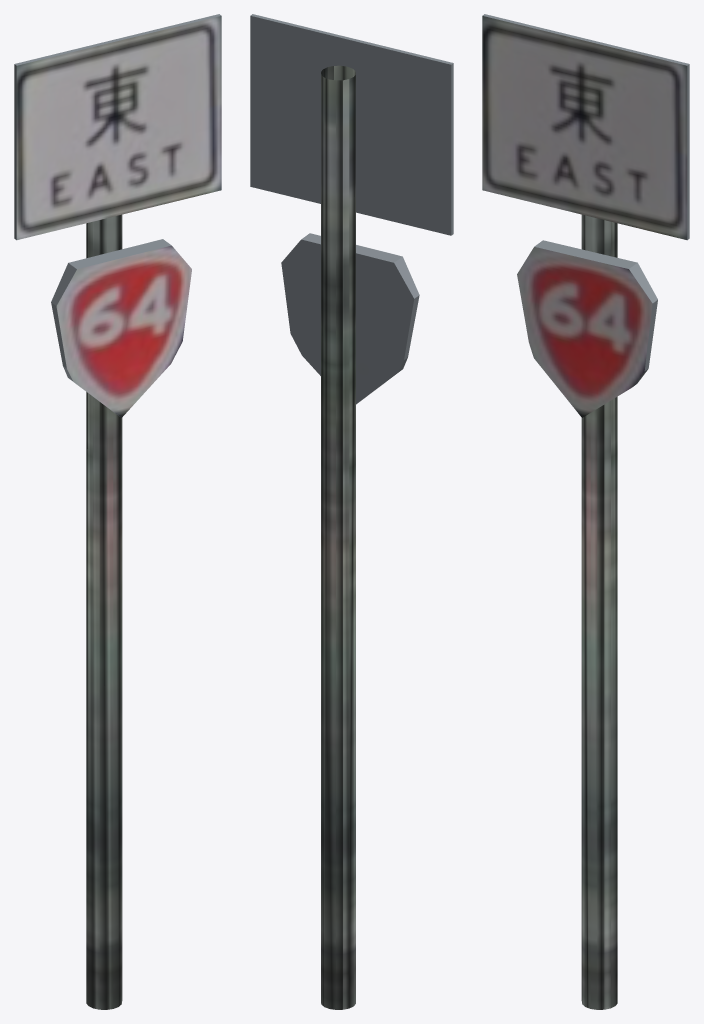
File: Sign14.fbx
3 renders of one model, left to right at view 1: azimuth 30°, elevation 25°; view 2: azimuth 150°, elevation 25°; view 3: azimuth 330°, elevation 25°, orthographic. The views are drawn at different scales.
Visible parts, largest first — view 1: Sign11; view 2: Sign11; view 3: Sign11.
Boxes of the visible parts, x1,y1,x2,y2 form: Sign11: [14, 14, 221, 1009]; Sign11: [250, 14, 453, 1009]; Sign11: [482, 14, 689, 1009].
Bounding box in the file's own units: 0.4808 × 2.18 × 0.115.
1 material, 1 textured.
